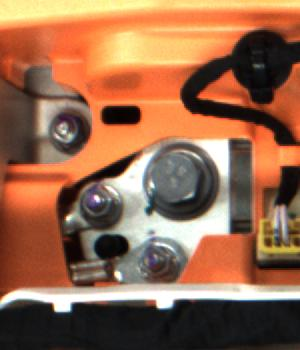nut_b: (140, 140, 222, 224)
screw_s: (76, 182, 114, 224), (134, 237, 171, 278), (45, 110, 81, 146)
